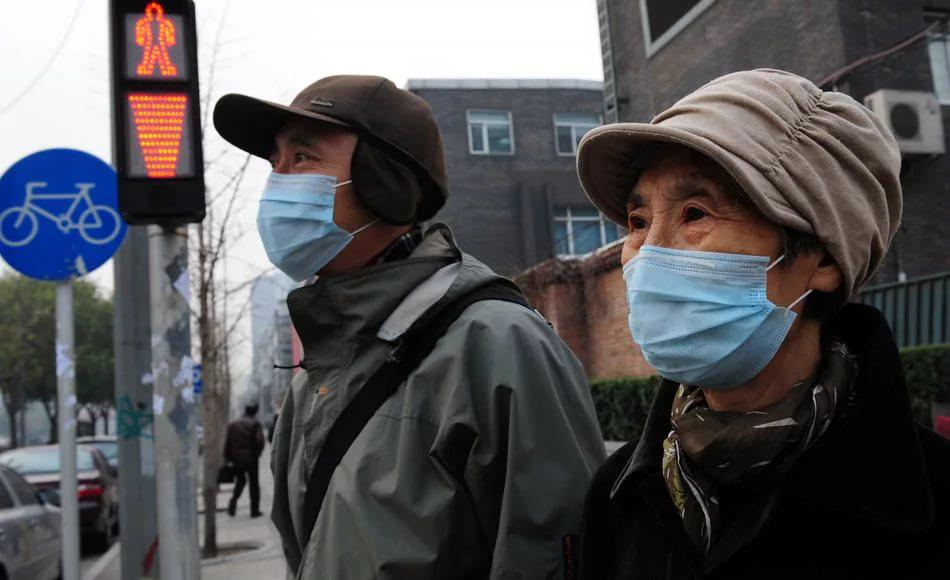mask: (622, 134, 831, 380), (250, 119, 360, 286)
